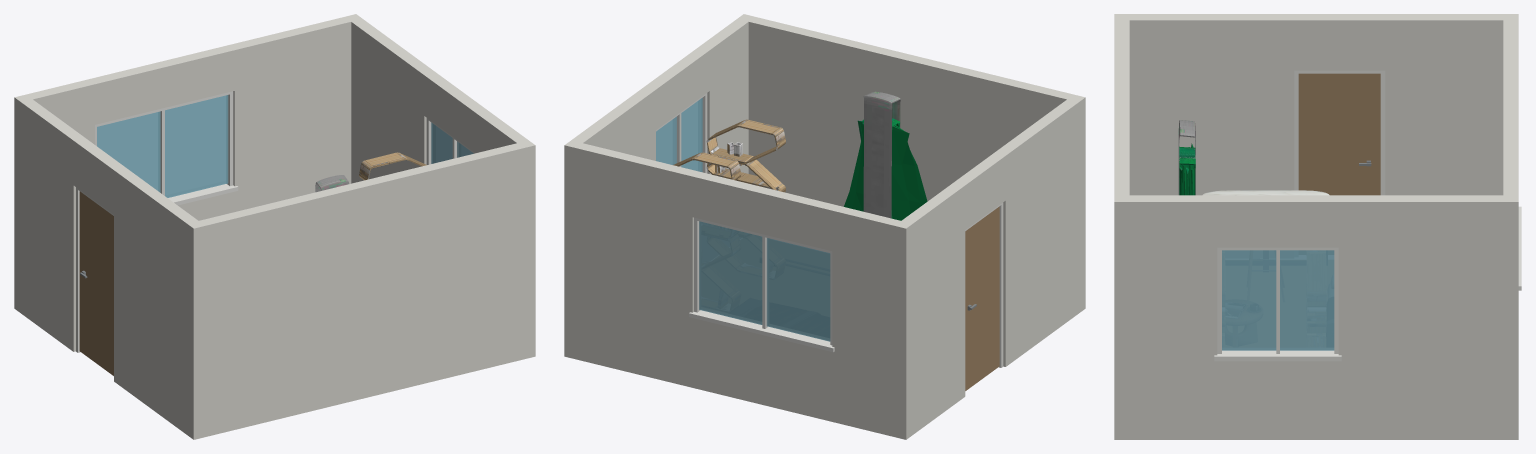
The model's file is layoutvlm.glb.
The picture shows the model from 3 angles, left to right: view 1: azimuth 30°, elevation 25°; view 2: azimuth 150°, elevation 25°; view 3: azimuth 270°, elevation 25°; orthographic projection. The views are drawn at different scales.
Visible parts, largest first — view 1: wall|scenesmith_024__R00|0, wall|scenesmith_024__R00|2, wall|scenesmith_024__R00|1, wall|scenesmith_024__R00|3, wall|scenesmith_024__R00|1 Window 0 | glazing, wall|scenesmith_024__R00|2 Door 0 | wood leaf, wall|scenesmith_024__R00|1 Window 0 | jamb, wall|scenesmith_024__R00|3 Window 0 | glazing, wall|scenesmith_024__R00|2 Door 0 | jamb, raw_model.006; view 2: wall|scenesmith_024__R00|1, wall|scenesmith_024__R00|0, wall|scenesmith_024__R00|2, wall|scenesmith_024__R00|1 Window 0 | glazing, wall|scenesmith_024__R00|3, scenesmith_024__R00_curtains-0, wall|scenesmith_024__R00|2 Door 0 | wood leaf, wall|scenesmith_024__R00|1 Window 0 | jamb, raw_model.006, wall|scenesmith_024__R00|3 Window 0 | glazing, wall|scenesmith_024__R00|2 Door 0 | jamb, wall|scenesmith_024__R00|3 Window 0 | jamb; view 3: wall|scenesmith_024__R00|3, wall|scenesmith_024__R00|2, wall|scenesmith_024__R00|3 Window 0 | glazing, wall|scenesmith_024__R00|2 Door 0 | wood leaf, wall|scenesmith_024__R00|3 Window 0 | jamb, wall|scenesmith_024__R00|0, wall|scenesmith_024__R00|1, wall|scenesmith_024__R00|2 Door 0 | jamb, scenesmith_024__R00_curtains-0, raw_model.003.
Boxes of the visible parts, box(x1,y1,x2,y2) form: wall|scenesmith_024__R00|0: box(187, 140, 535, 439); wall|scenesmith_024__R00|2: box(15, 94, 205, 438); wall|scenesmith_024__R00|1: box(14, 14, 362, 313); wall|scenesmith_024__R00|3: box(351, 19, 532, 219); wall|scenesmith_024__R00|1 Window 0 | glazing: box(97, 95, 228, 197); wall|scenesmith_024__R00|2 Door 0 | wood leaf: box(79, 191, 113, 375); wall|scenesmith_024__R00|1 Window 0 | jamb: box(95, 91, 238, 205); wall|scenesmith_024__R00|3 Window 0 | glazing: box(431, 122, 473, 163); wall|scenesmith_024__R00|2 Door 0 | jamb: box(76, 187, 113, 352); raw_model.006: box(359, 152, 426, 180); wall|scenesmith_024__R00|1: box(564, 140, 912, 439); wall|scenesmith_024__R00|0: box(737, 14, 1085, 313); wall|scenesmith_024__R00|2: box(895, 94, 1084, 434); wall|scenesmith_024__R00|1 Window 0 | glazing: box(699, 221, 830, 341); wall|scenesmith_024__R00|3: box(571, 19, 748, 174); scenesmith_024__R00_curtains-0: box(844, 91, 927, 220); wall|scenesmith_024__R00|2 Door 0 | wood leaf: box(965, 206, 999, 390); wall|scenesmith_024__R00|1 Window 0 | jamb: box(689, 217, 834, 352); raw_model.006: box(673, 119, 785, 192); wall|scenesmith_024__R00|3 Window 0 | glazing: box(656, 98, 702, 172); wall|scenesmith_024__R00|2 Door 0 | jamb: box(965, 202, 1003, 367); wall|scenesmith_024__R00|3 Window 0 | jamb: box(656, 93, 707, 173); wall|scenesmith_024__R00|3: box(1114, 195, 1518, 439); wall|scenesmith_024__R00|2: box(1114, 14, 1518, 195); wall|scenesmith_024__R00|3 Window 0 | glazing: box(1222, 250, 1334, 350); wall|scenesmith_024__R00|2 Door 0 | wood leaf: box(1298, 73, 1380, 195); wall|scenesmith_024__R00|3 Window 0 | jamb: box(1214, 247, 1341, 361); wall|scenesmith_024__R00|0: box(1114, 20, 1129, 201); wall|scenesmith_024__R00|1: box(1503, 20, 1518, 201); wall|scenesmith_024__R00|2 Door 0 | jamb: box(1294, 70, 1385, 195); scenesmith_024__R00_curtains-0: box(1178, 120, 1195, 195); raw_model.003: box(1202, 190, 1329, 195).
Size of the model in its own units: 4.43 by 2.61 by 4.03.
Materials: 13 (7 with a texture image).
